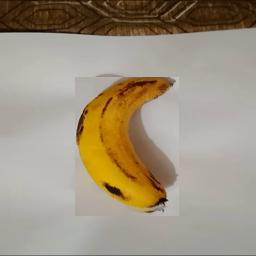Banana Semifresh: (75, 77, 179, 216)
